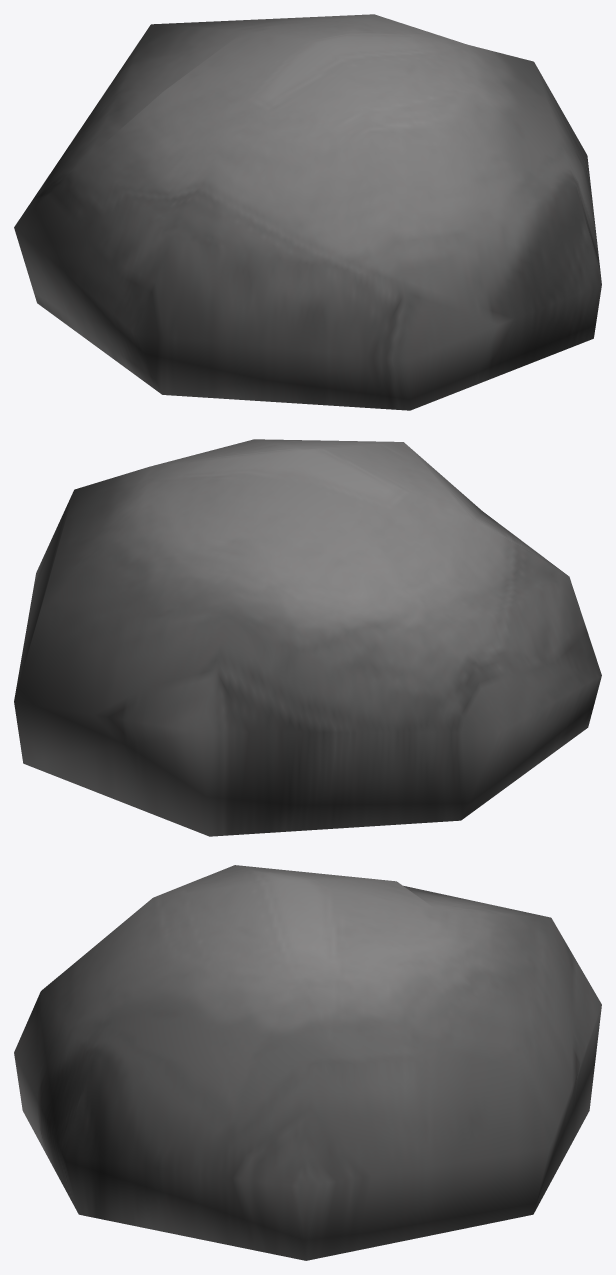
The model's file is Stone1.fbx.
The picture shows the model from 3 angles, top to bottom: view 1: azimuth 30°, elevation 25°; view 2: azimuth 150°, elevation 25°; view 3: azimuth 270°, elevation 25°; orthographic projection.
Parts seen in each view (by area): view 1: Sphere; view 2: Sphere; view 3: Sphere.
Boxes of the visible parts, x1,y1,x2,y2 form: Sphere: [14, 14, 601, 410]; Sphere: [14, 439, 601, 836]; Sphere: [14, 865, 601, 1260].
Size of the model in its own units: 191 by 90.55 by 187.
